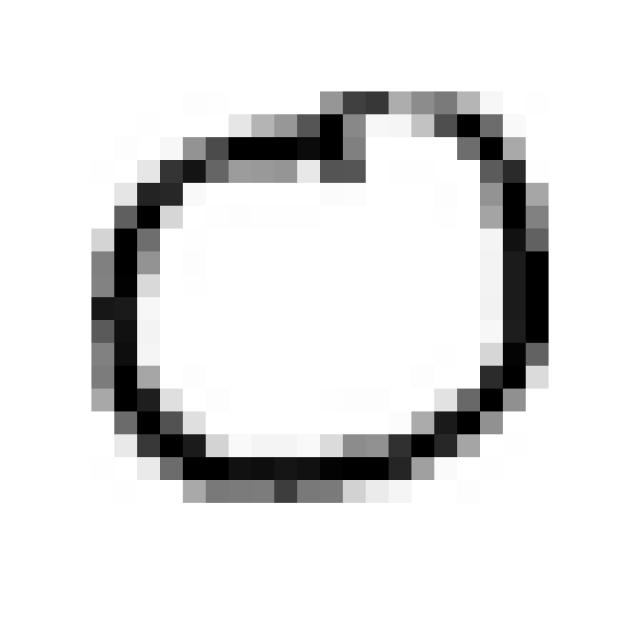5 -five-: (78, 67, 558, 520)
